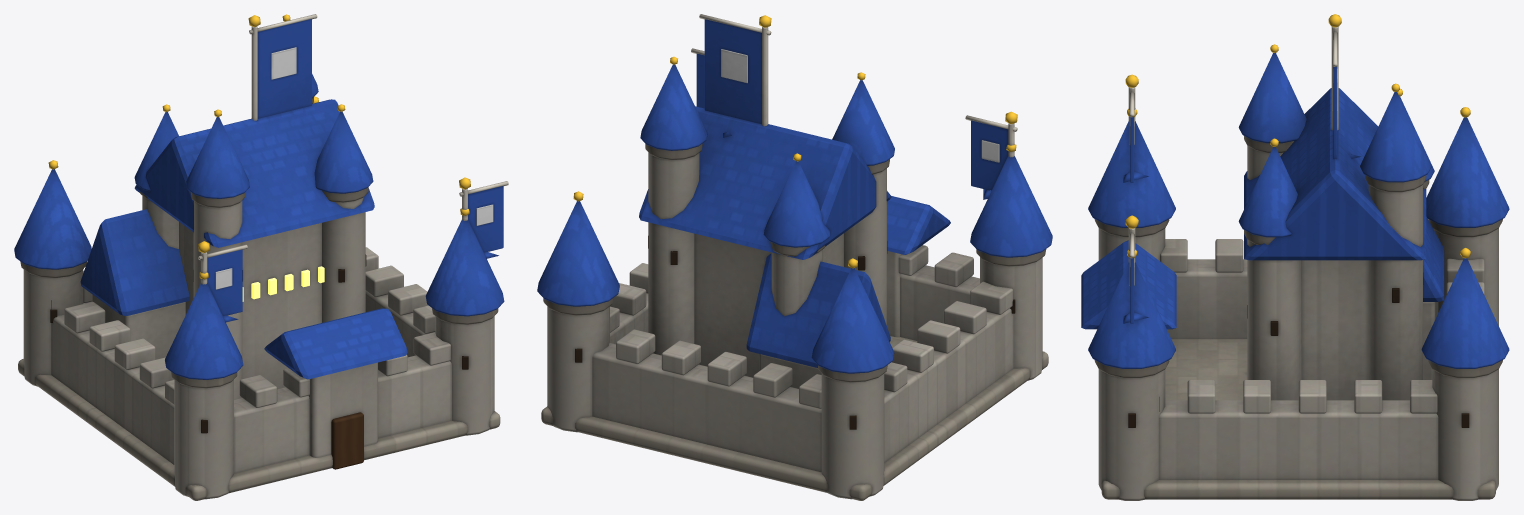
File: castle.glb
The picture shows the model from 3 angles, left to right: view 1: azimuth 30°, elevation 25°; view 2: azimuth 150°, elevation 25°; view 3: azimuth 270°, elevation 25°; orthographic projection. The views are drawn at different scales.
Parts seen in each view (by area): view 1: base; view 2: base; view 3: base.
Part boxes in pixels (x1,y1,x2,y2): base: (14,14,508,500); base: (537,14,1052,500); base: (1081,14,1509,500).
Bounding box in the file's own units: 1.42 × 1.5 × 1.41.
Materials: 3 (1 with a texture image).
